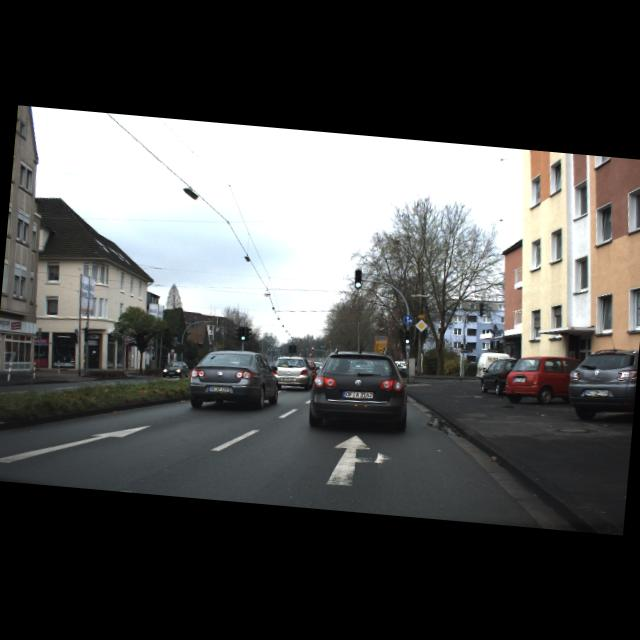mandatory: (402, 314, 413, 325)
other: (414, 318, 428, 332)
